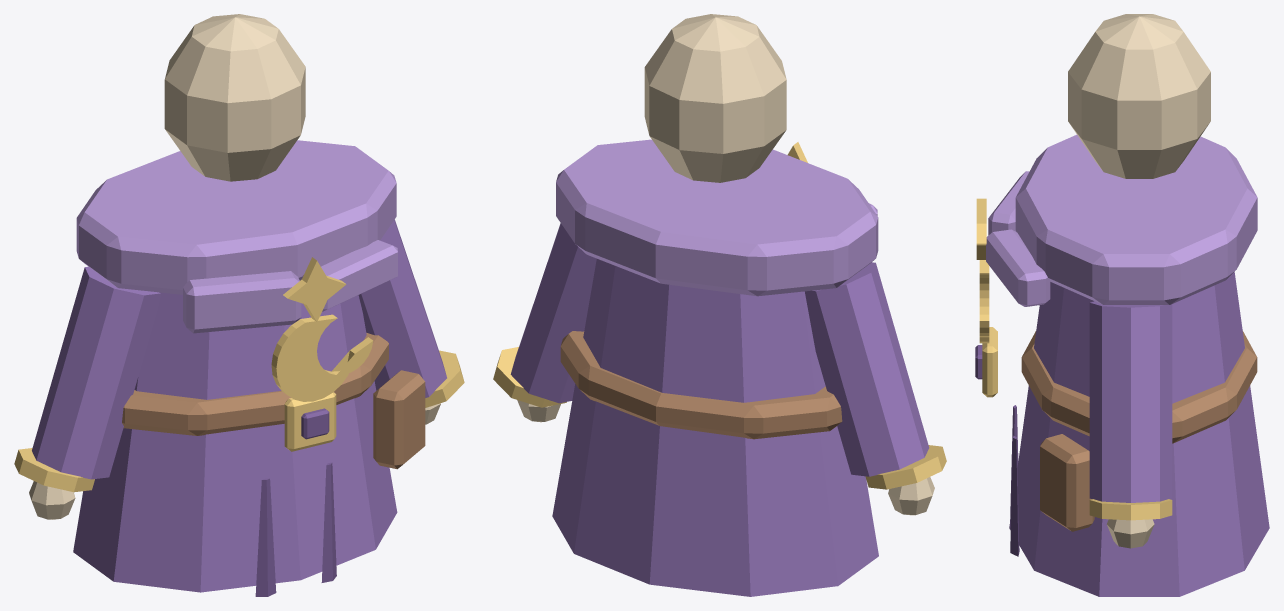
The picture shows the model from 3 angles, left to right: view 1: azimuth 30°, elevation 25°; view 2: azimuth 150°, elevation 25°; view 3: azimuth 270°, elevation 25°; orthographic projection.
Parts seen in each view (by area): view 1: soft trapezoid purple robe body, thick cozy shoulder collar, simple warm cream round head placeholder, left chunky short sleeve, warm leather belt around robe, right chunky short sleeve, front collar left flap, simple gold moon charm on robe, small brown side pouch, front collar right flap, simple square gold belt buckle, dark inner front robe split left (+6 smaller); view 2: soft trapezoid purple robe body, thick cozy shoulder collar, simple warm cream round head placeholder, left chunky short sleeve, warm leather belt around robe, right chunky short sleeve, left sleeve gold cuff, right sleeve gold cuff, left simple hand placeholder, left simple hand placeholder.001; view 3: soft trapezoid purple robe body, thick cozy shoulder collar, simple warm cream round head placeholder, right chunky short sleeve, warm leather belt around robe, small brown side pouch, front collar right flap, right sleeve gold cuff, left simple hand placeholder.001, front collar left flap, simple square gold belt buckle, simple gold moon charm on robe (+2 smaller).
Part boxes in pixels (x1=…): soft trapezoid purple robe body: x1=73, y1=292, x2=397, y2=592; thick cozy shoulder collar: x1=76, y1=140, x2=396, y2=294; simple warm cream round head placeholder: x1=164, y1=14, x2=305, y2=181; left chunky short sleeve: x1=32, y1=266, x2=161, y2=479; warm leather belt around robe: x1=122, y1=333, x2=388, y2=435; right chunky short sleeve: x1=358, y1=219, x2=446, y2=397; front collar left flap: x1=183, y1=271, x2=301, y2=333; simple gold moon charm on robe: x1=271, y1=314, x2=373, y2=401; small brown side pouch: x1=373, y1=370, x2=425, y2=469; front collar right flap: x1=302, y1=240, x2=397, y2=311; simple square gold belt buckle: x1=284, y1=392, x2=336, y2=451; dark inner front robe split left: x1=255, y1=478, x2=276, y2=596; soft trapezoid purple robe body: x1=552, y1=259, x2=878, y2=596; thick cozy shoulder collar: x1=556, y1=139, x2=878, y2=296; simple warm cream round head placeholder: x1=644, y1=14, x2=786, y2=182; left chunky short sleeve: x1=804, y1=262, x2=929, y2=476; warm leather belt around robe: x1=560, y1=331, x2=842, y2=439; right chunky short sleeve: x1=510, y1=223, x2=596, y2=403; left sleeve gold cuff: x1=865, y1=445, x2=946, y2=489; right sleeve gold cuff: x1=493, y1=347, x2=566, y2=407; left simple hand placeholder: x1=888, y1=477, x2=934, y2=515; left simple hand placeholder.001: x1=517, y1=400, x2=560, y2=422; soft trapezoid purple robe body: x1=1009, y1=272, x2=1269, y2=596; thick cozy shoulder collar: x1=1015, y1=134, x2=1257, y2=304; simple warm cream round head placeholder: x1=1068, y1=14, x2=1210, y2=178; right chunky short sleeve: x1=1089, y1=301, x2=1172, y2=502; warm leather belt around robe: x1=1021, y1=331, x2=1257, y2=443; small brown side pouch: x1=1040, y1=434, x2=1094, y2=531; front collar right flap: x1=986, y1=229, x2=1050, y2=306; right sleeve gold cuff: x1=1089, y1=499, x2=1172, y2=520; left simple hand placeholder.001: x1=1107, y1=519, x2=1154, y2=548; front collar left flap: x1=988, y1=171, x2=1028, y2=235; simple square gold belt buckle: x1=982, y1=327, x2=997, y2=397; simple gold moon charm on robe: x1=979, y1=260, x2=989, y2=343.
Bounding box in the file's own units: 1.8 × 2.04 × 1.04.
